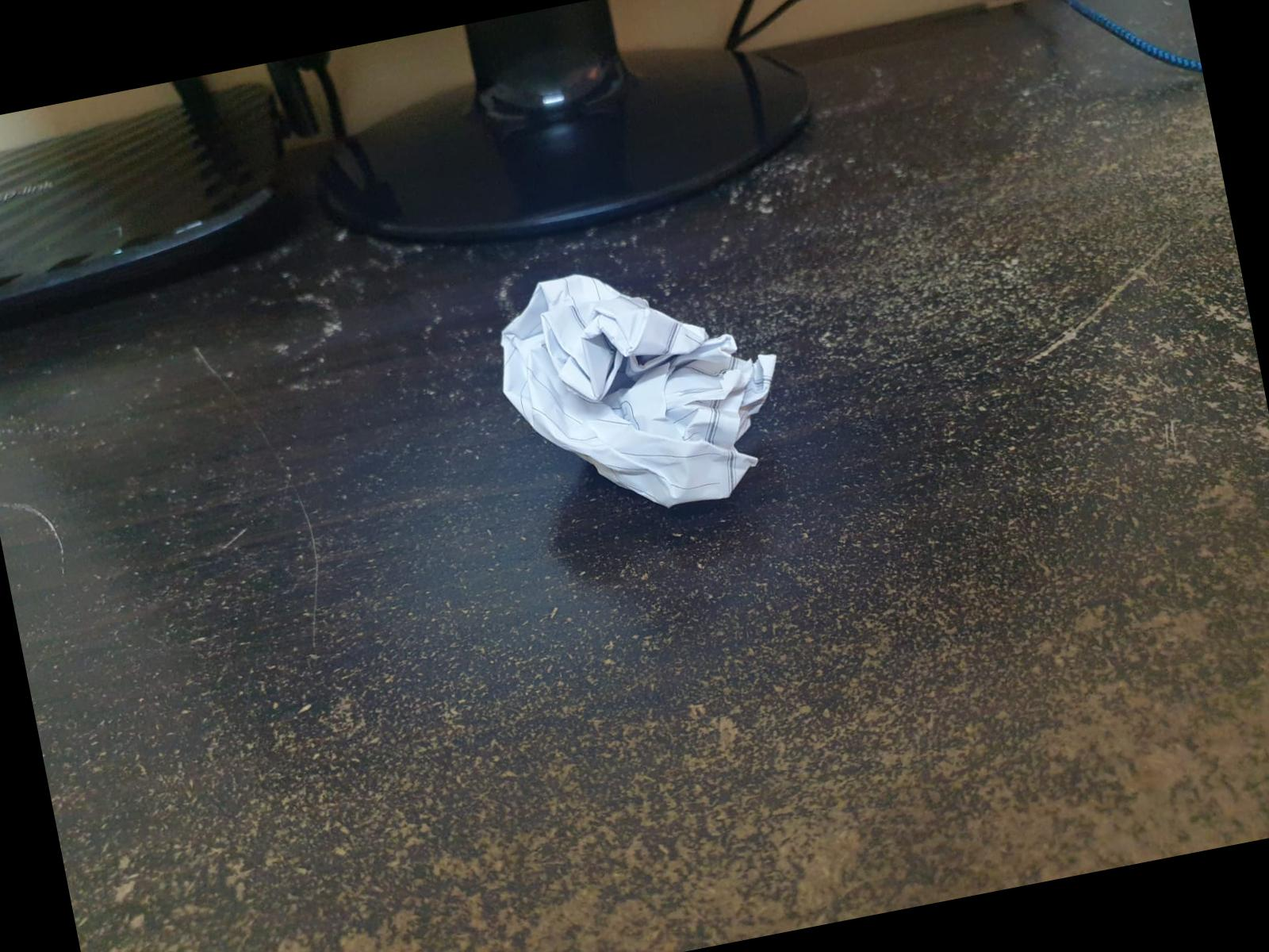Kertas: (492, 283, 788, 523)
